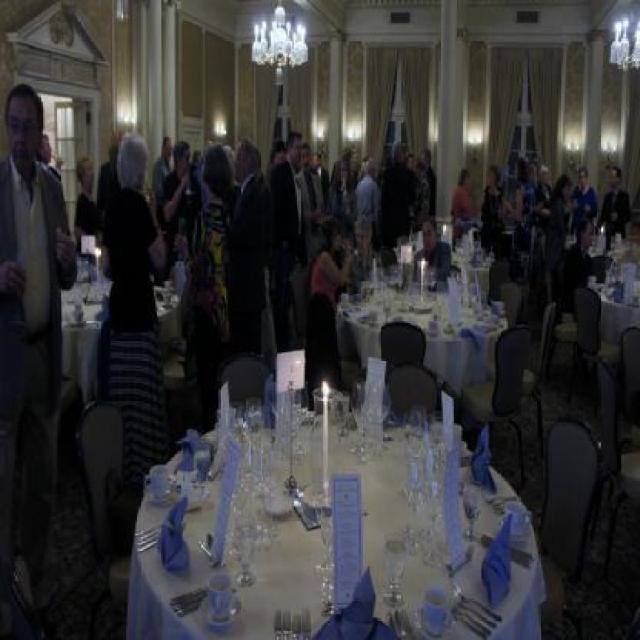Person: (95, 127, 639, 431), (0, 77, 83, 638), (93, 127, 161, 536)
